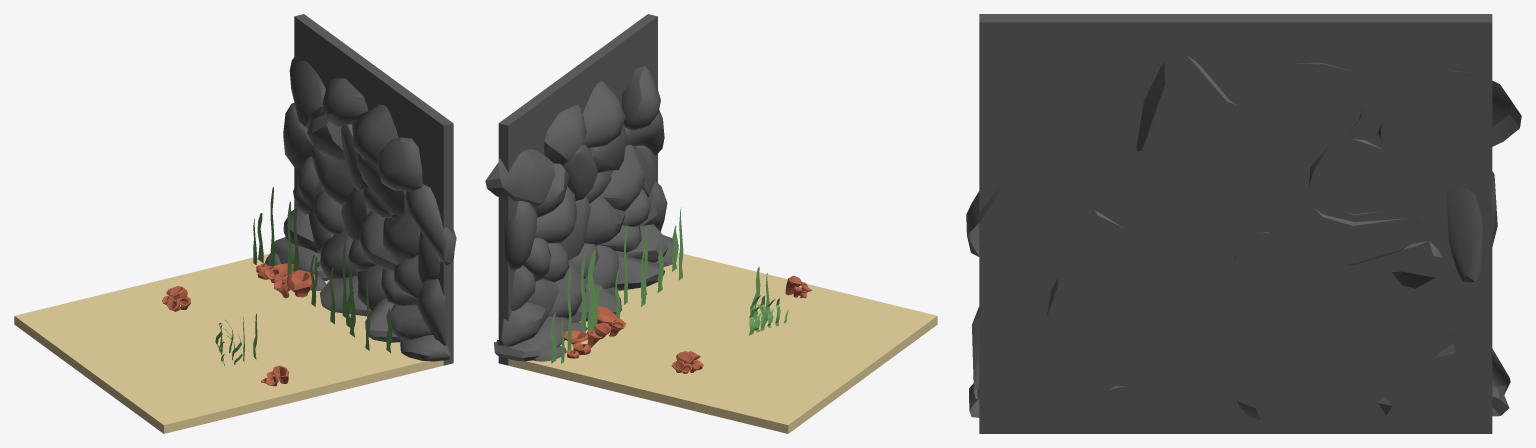
The model's file is SM_Tile_05.fbx.
3 views of the same model, side by side, from view 1: azimuth 30°, elevation 25°; view 2: azimuth 150°, elevation 25°; view 3: azimuth 270°, elevation 25° (orthographic). The views are drawn at different scales.
Visible parts, largest first — view 1: SM_Tile_05; view 2: SM_Tile_05; view 3: SM_Tile_05.
Boxes of the visible parts, bbox=[...] form: SM_Tile_05: bbox=[14, 14, 456, 433]; SM_Tile_05: bbox=[485, 14, 937, 433]; SM_Tile_05: bbox=[966, 14, 1521, 433].
Size of the model in its own units: 3324 by 2550 by 3108.
